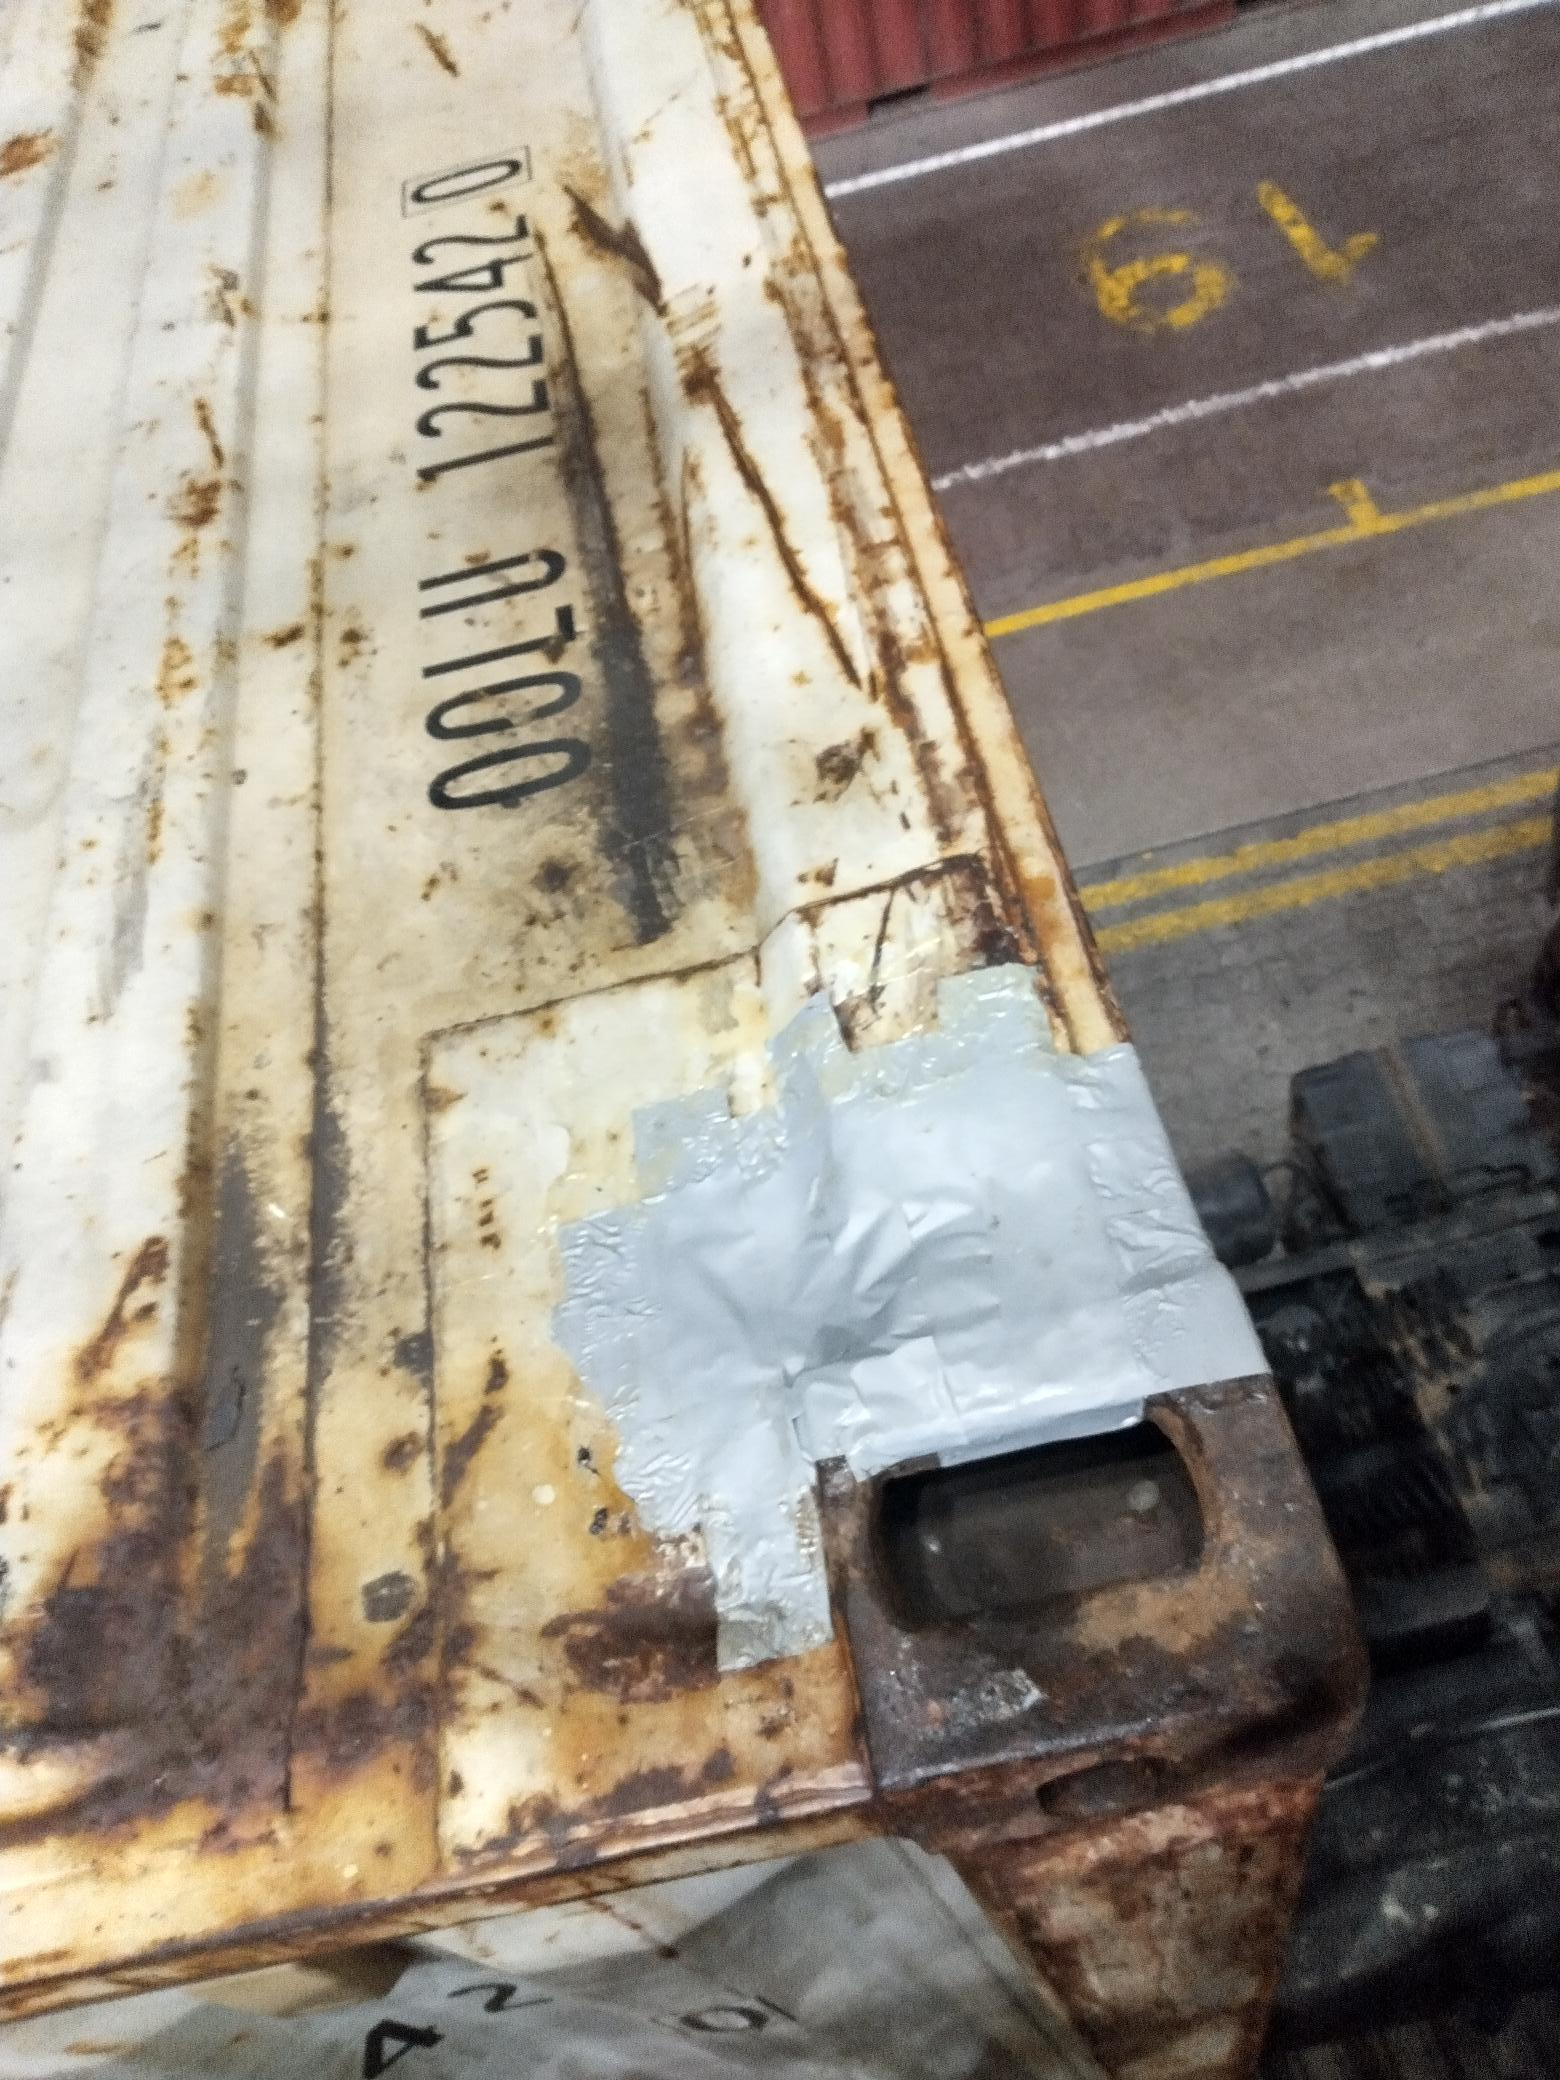minor: (3, 1133, 339, 1821), (508, 182, 778, 898)
